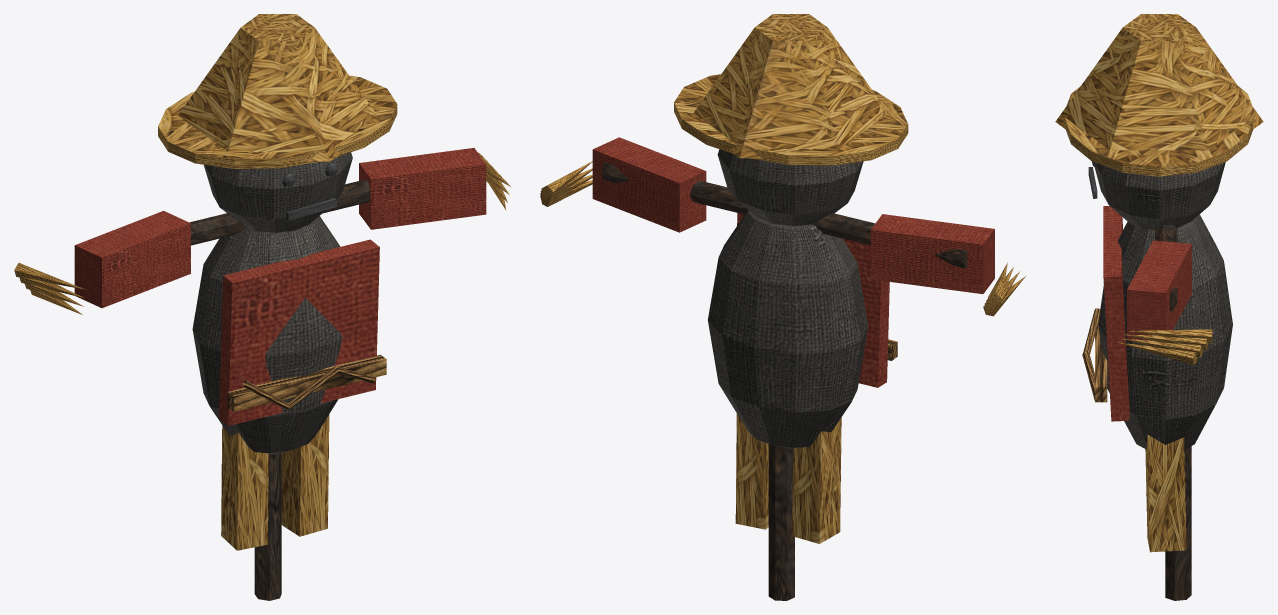
The model's file is living-scarecrow.glb.
3 views of the same model, side by side, from view 1: azimuth 30°, elevation 25°; view 2: azimuth 150°, elevation 25°; view 3: azimuth 270°, elevation 25° (orthographic). The views are drawn at different scales.
Visible parts, largest first — view 1: living-scarecrow_merged_mesh; view 2: living-scarecrow_merged_mesh; view 3: living-scarecrow_merged_mesh.
Boxes of the visible parts, <box> form: living-scarecrow_merged_mesh: <box>14,14,510,600</box>; living-scarecrow_merged_mesh: <box>540,14,1026,600</box>; living-scarecrow_merged_mesh: <box>1055,14,1263,600</box>.
Bounding box in the file's own units: 1.79 × 2.04 × 0.68.
Materials: 6 (6 with a texture image).
